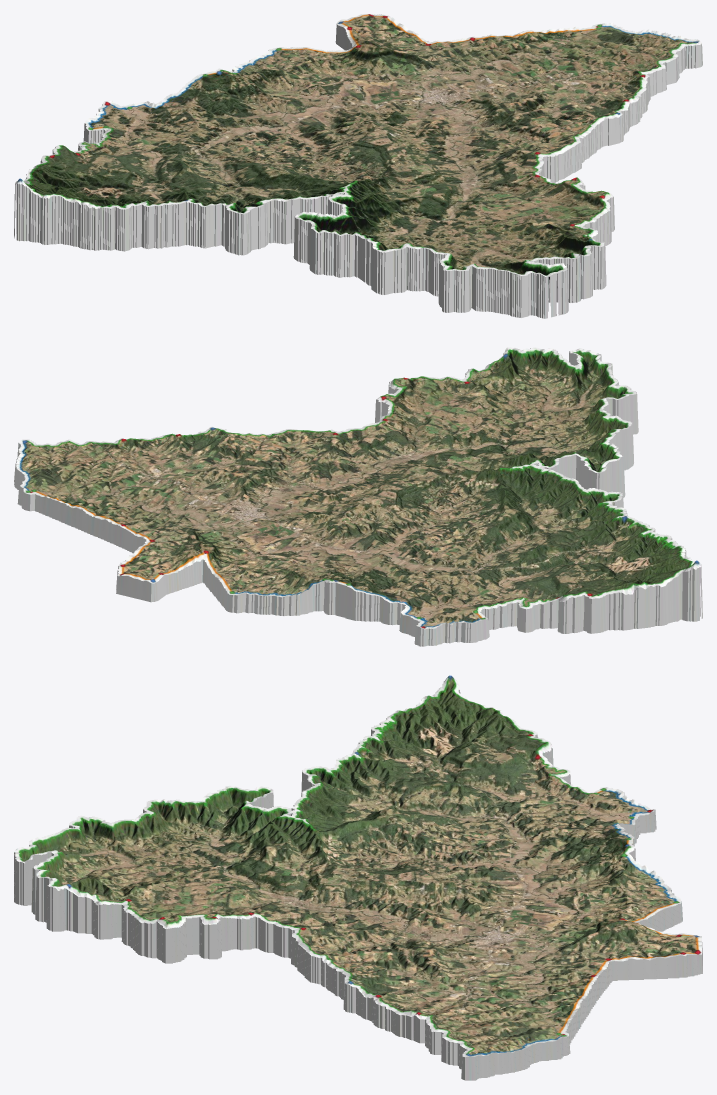
The picture shows the model from 3 angles, top to bottom: view 1: azimuth 30°, elevation 25°; view 2: azimuth 150°, elevation 25°; view 3: azimuth 270°, elevation 25°; orthographic projection. The views are drawn at different scales.
Bounding box in the file's own units: 1 × 0.0822 × 0.8413.
1 material, 1 textured.
